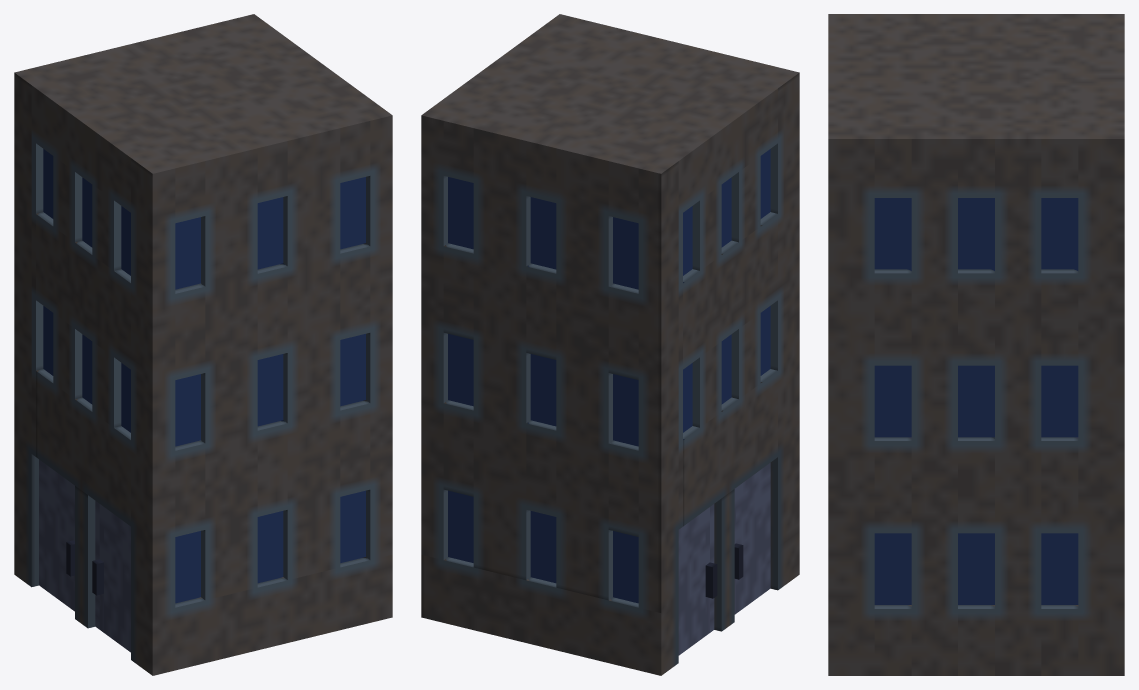
The model's file is b_dzielnia_uni5_6.dae.
3 views of the same model, side by side, from view 1: azimuth 30°, elevation 25°; view 2: azimuth 150°, elevation 25°; view 3: azimuth 270°, elevation 25° (orthographic). The views are drawn at different scales.
Visible parts, largest first — view 1: Content; view 2: Content; view 3: Content.
Part boxes in pixels (bbox=[...]): Content: bbox=[14, 14, 392, 675]; Content: bbox=[421, 14, 799, 675]; Content: bbox=[828, 14, 1124, 675].
Size of the model in its own units: 32 by 64 by 32.
1 material, 1 textured.
